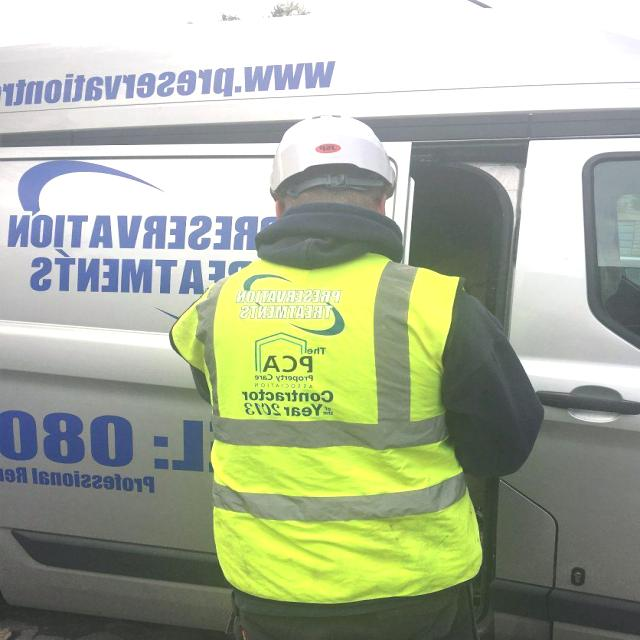head_helmet: (268, 115, 399, 197)
person: (193, 170, 506, 639)
vest: (182, 253, 484, 605)
